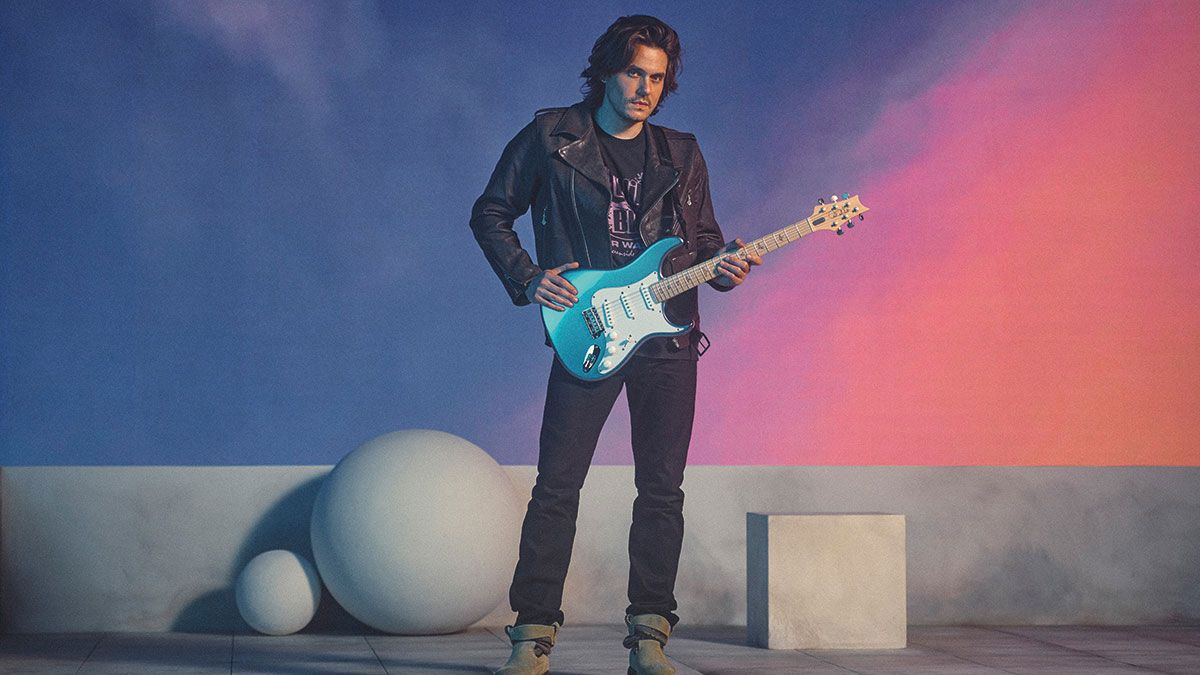acousticguitar: (537, 192, 865, 382)
